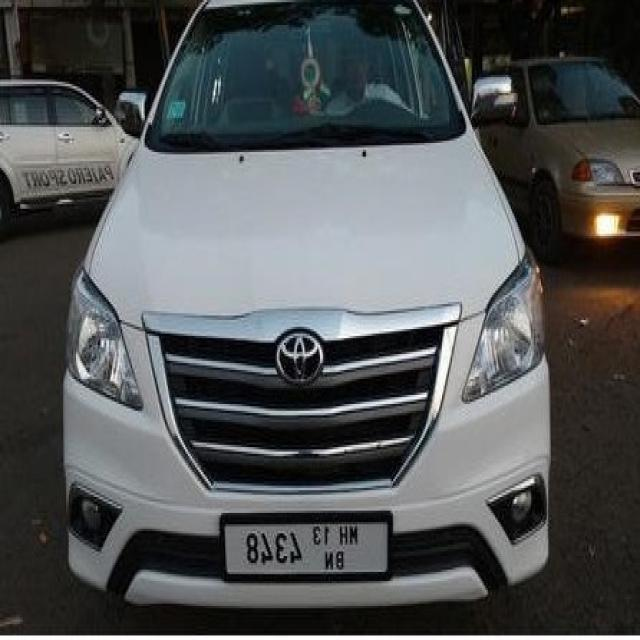number-plate: (210, 498, 401, 595)
